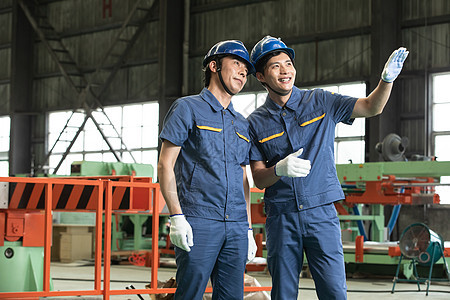safetyhat: (249, 28, 370, 287), (151, 26, 255, 271)
